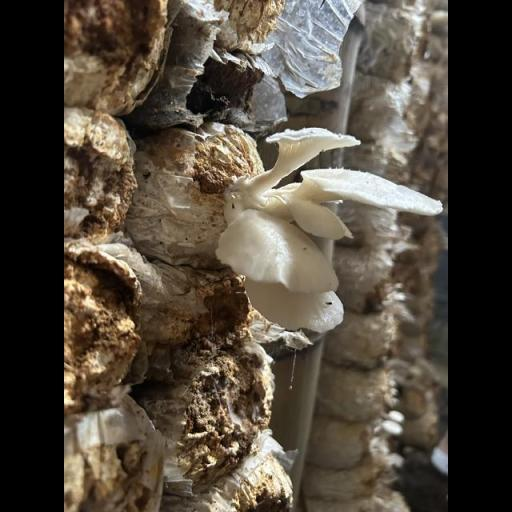White Oyster Mushroom: (214, 128, 442, 334)
